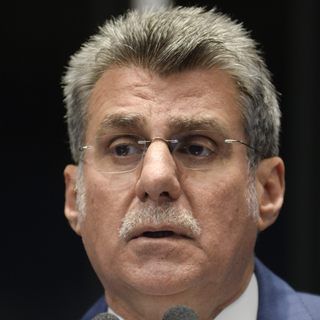eye: (173, 138, 220, 163), (103, 134, 145, 161)
